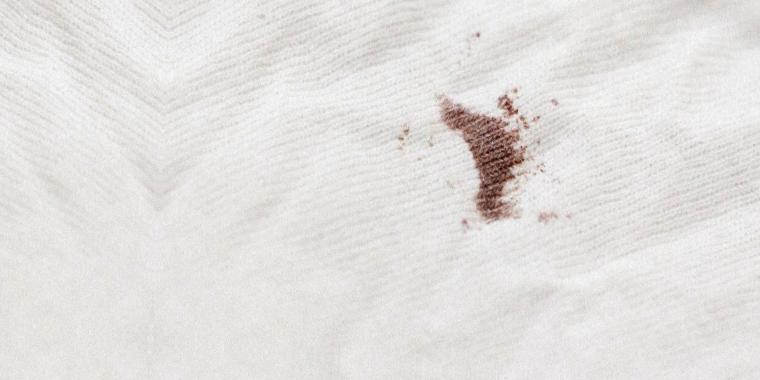stain: (431, 87, 536, 229)
